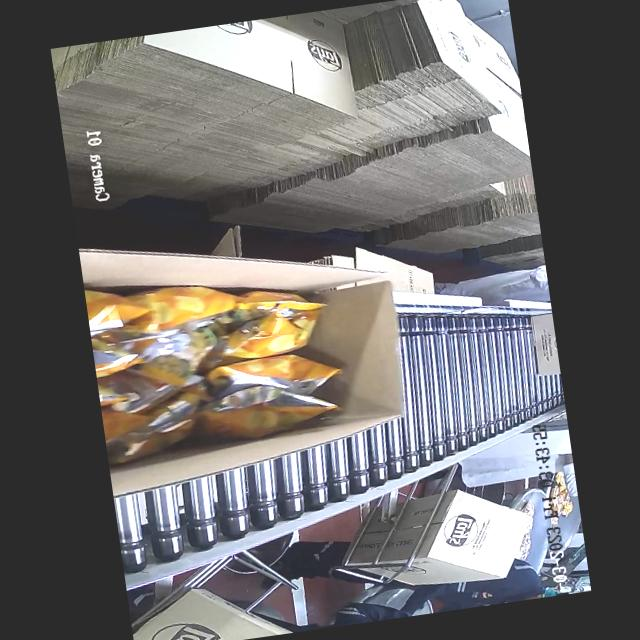cheese: (84, 259, 355, 453)
